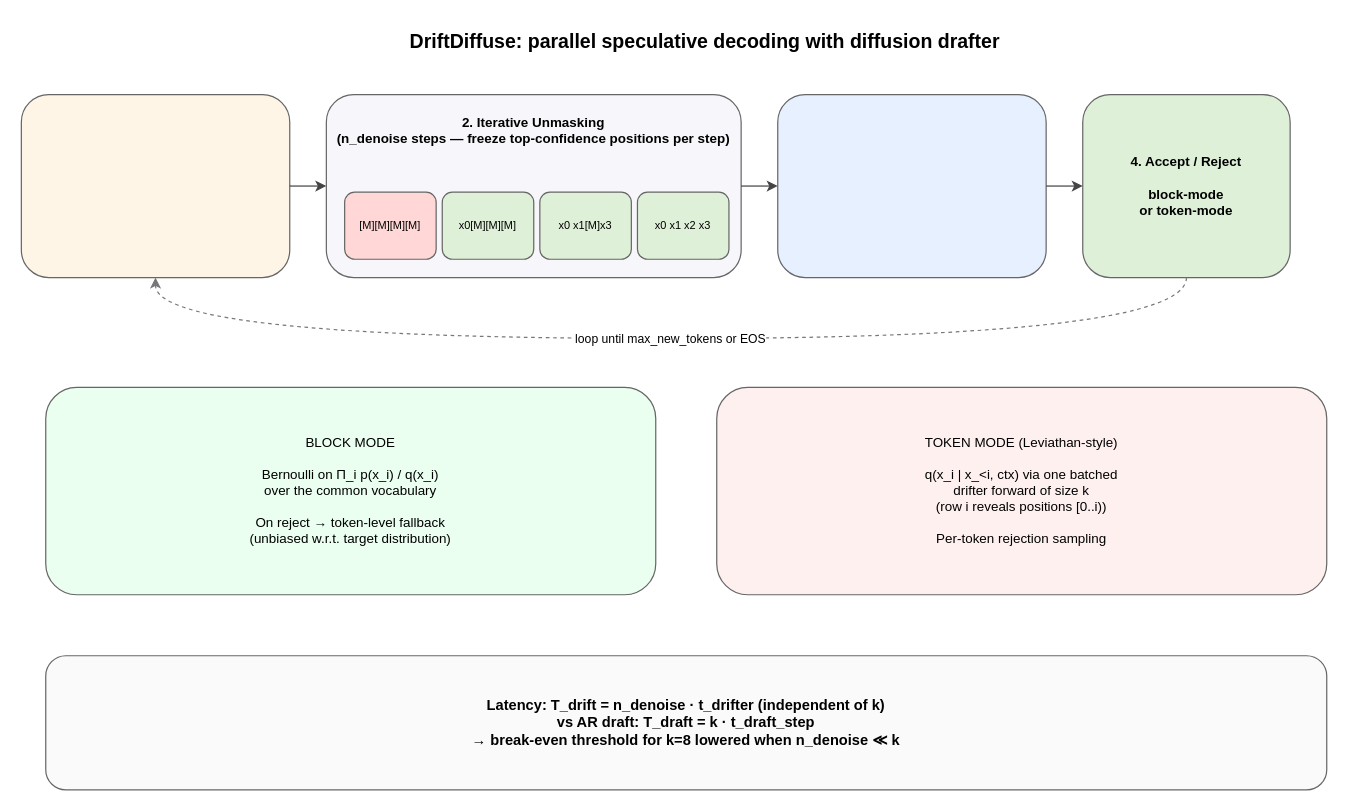
The diagram is 1348 pixels wide and 811 high, and some of its shapes have lost their labels. The shapes that lost their labels are listed below. From the top down, each one's box as (x1, y1, x2, y2) in pixels, then its label:
(20, 93, 290, 278): 1. Drift Schedule t_i = clip(t + λ·i/k, 0, T) later positions stay masked longer
(777, 93, 1046, 278): 3. Target Verify single forward pass over prefix + draft → k+1 logit rows
